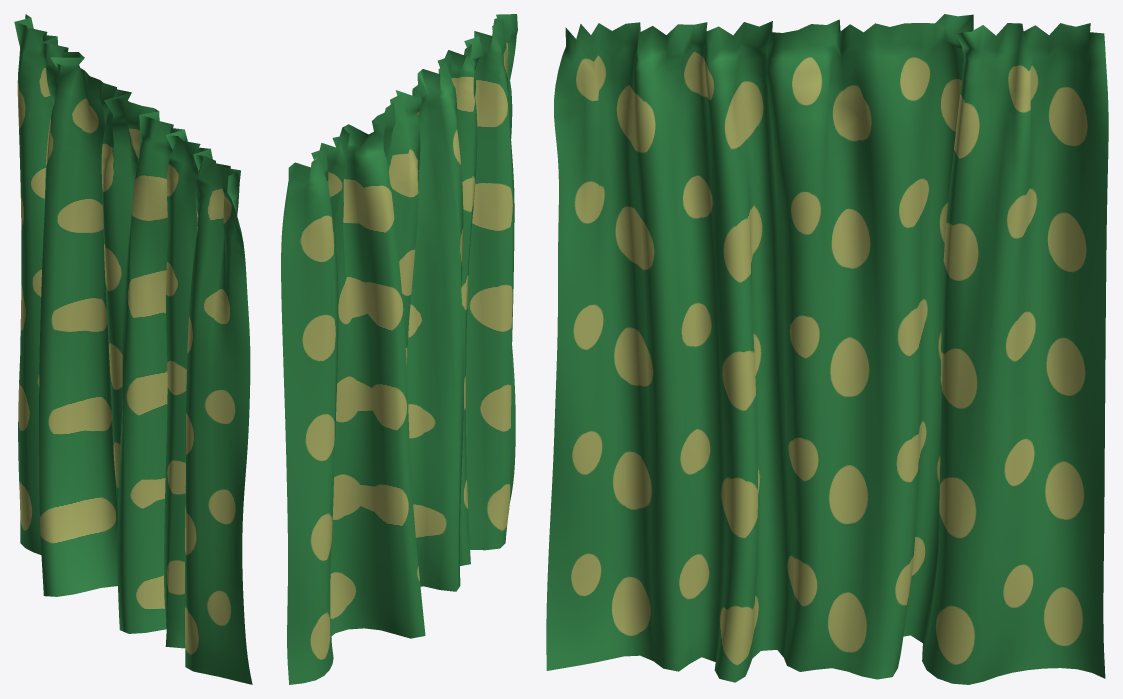
Rendered from Derecha.obj.
3 renders of one model, left to right at view 1: azimuth 30°, elevation 25°; view 2: azimuth 150°, elevation 25°; view 3: azimuth 270°, elevation 25°, orthographic. The views are drawn at different scales.
Parts seen in each view (by area): view 1: polySurface1 pPlane5; view 2: polySurface1 pPlane5; view 3: polySurface1 pPlane5.
Part boxes in pixels (x1,y1,x2,y2): polySurface1 pPlane5: (14, 14, 252, 684); polySurface1 pPlane5: (281, 14, 517, 684); polySurface1 pPlane5: (546, 14, 1108, 684).
Size of the model in its own units: 0.718 by 4.46 by 3.5.
1 material, 1 textured.
